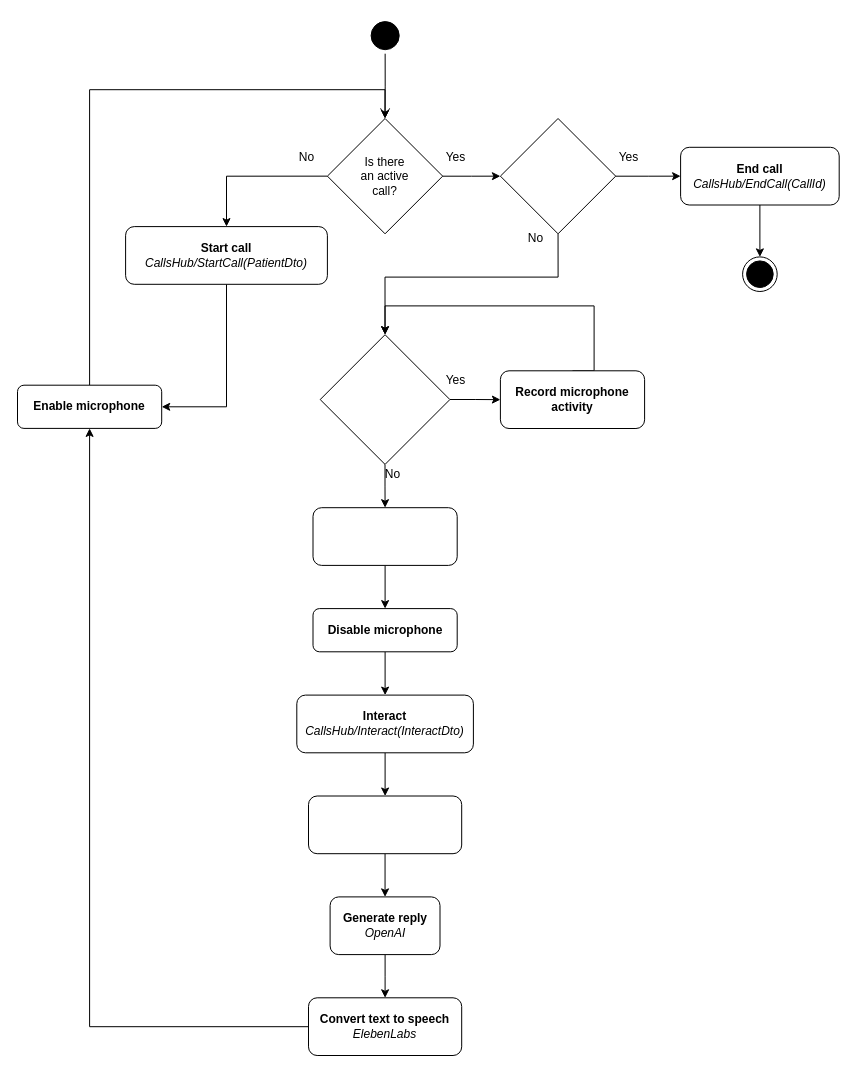
Some shapes in this 857 by 1073 pixel diagram are drawn without their labels. The box of each missing label's shape, as (x1, y1, x2, y2) in pixels:
All required information is gathered?: (499, 118, 616, 234)
Convert speech to text Deepgram: (308, 795, 462, 854)
Is microphone activity detected?: (319, 334, 450, 464)
Stop recording microphone activity: (312, 507, 457, 565)
